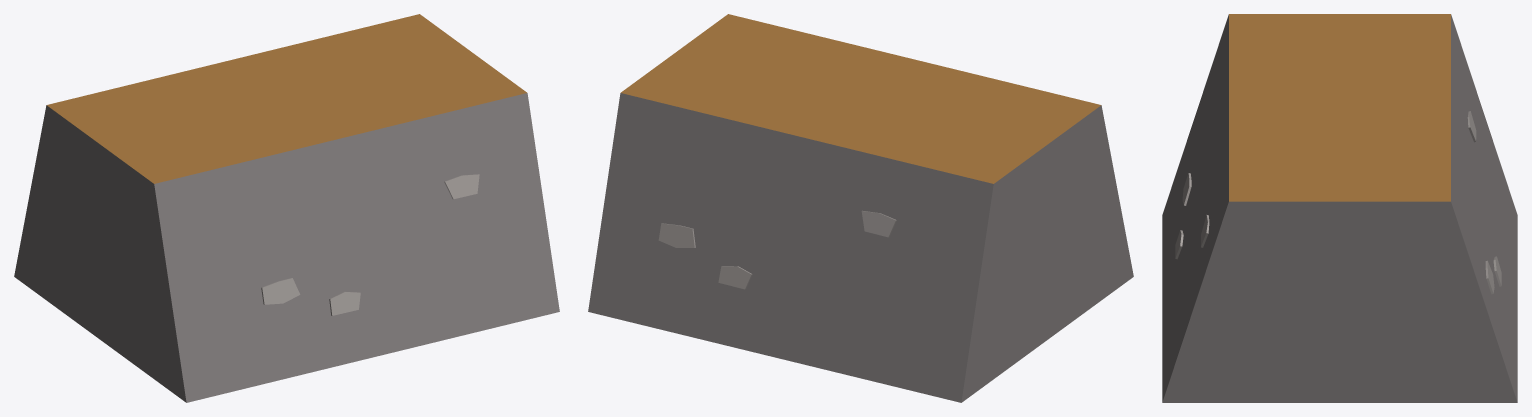
Rendered from japan_base-japan_small.fbx.
The picture shows the model from 3 angles, left to right: view 1: azimuth 30°, elevation 25°; view 2: azimuth 150°, elevation 25°; view 3: azimuth 270°, elevation 25°; orthographic projection. The views are drawn at different scales.
Visible parts, largest first — view 1: japan_base_japan_small; view 2: japan_base_japan_small; view 3: japan_base_japan_small.
Boxes of the visible parts, x1,y1,x2,y2 form: japan_base_japan_small: (14, 14, 559, 402); japan_base_japan_small: (588, 14, 1133, 402); japan_base_japan_small: (1162, 14, 1517, 402).
Bounding box in the file's own units: 200 × 99.98 × 160.
